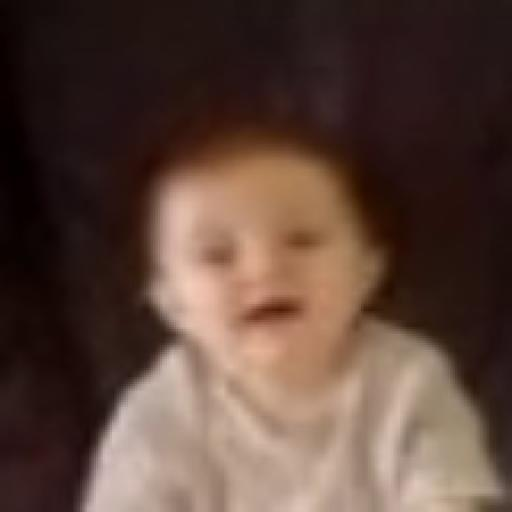Autism: (140, 150, 427, 446)
